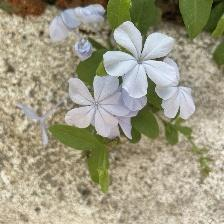chitrak: (103, 19, 179, 98), (64, 75, 133, 140)
